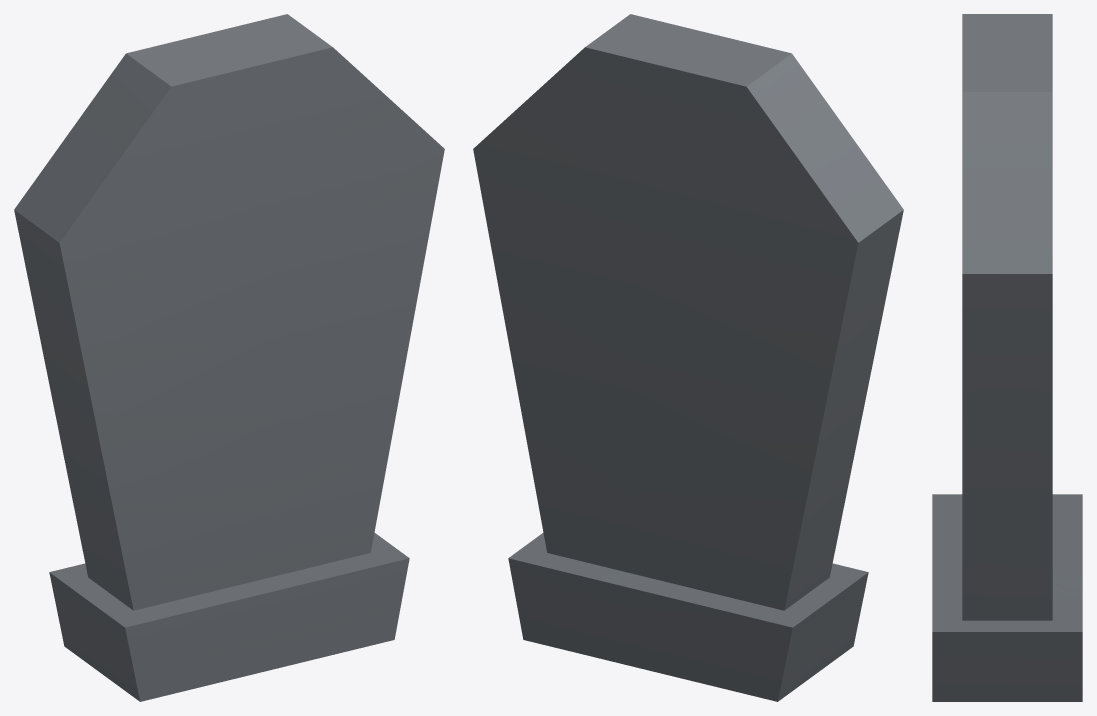
The model's file is grave_stone4.fbx.
3 views of the same model, side by side, from view 1: azimuth 30°, elevation 25°; view 2: azimuth 150°, elevation 25°; view 3: azimuth 270°, elevation 25° (orthographic).
Parts seen in each view (by area): view 1: grave_stone4; view 2: grave_stone4; view 3: grave_stone4.
Part boxes in pixels (x1,y1,x2,y2): grave_stone4: (14, 14, 444, 701); grave_stone4: (473, 14, 903, 701); grave_stone4: (932, 14, 1082, 701).
Bounding box in the file's own units: 4.89 × 7.19 × 1.67.
